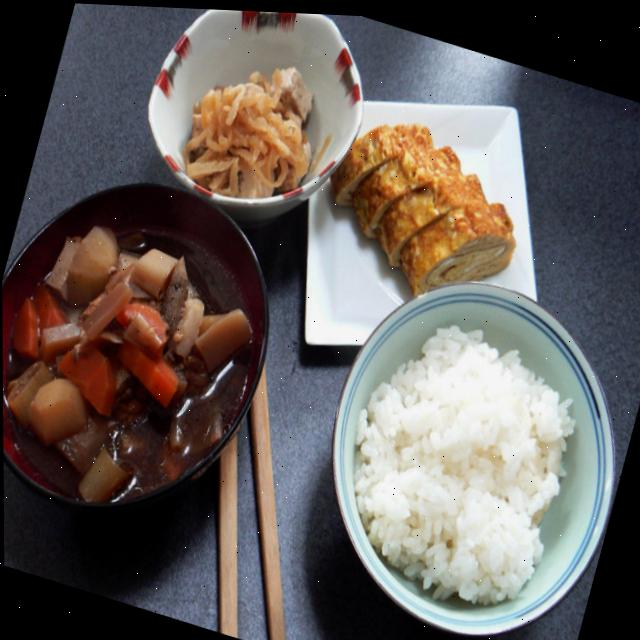米饭主食: (315, 273, 632, 640)
